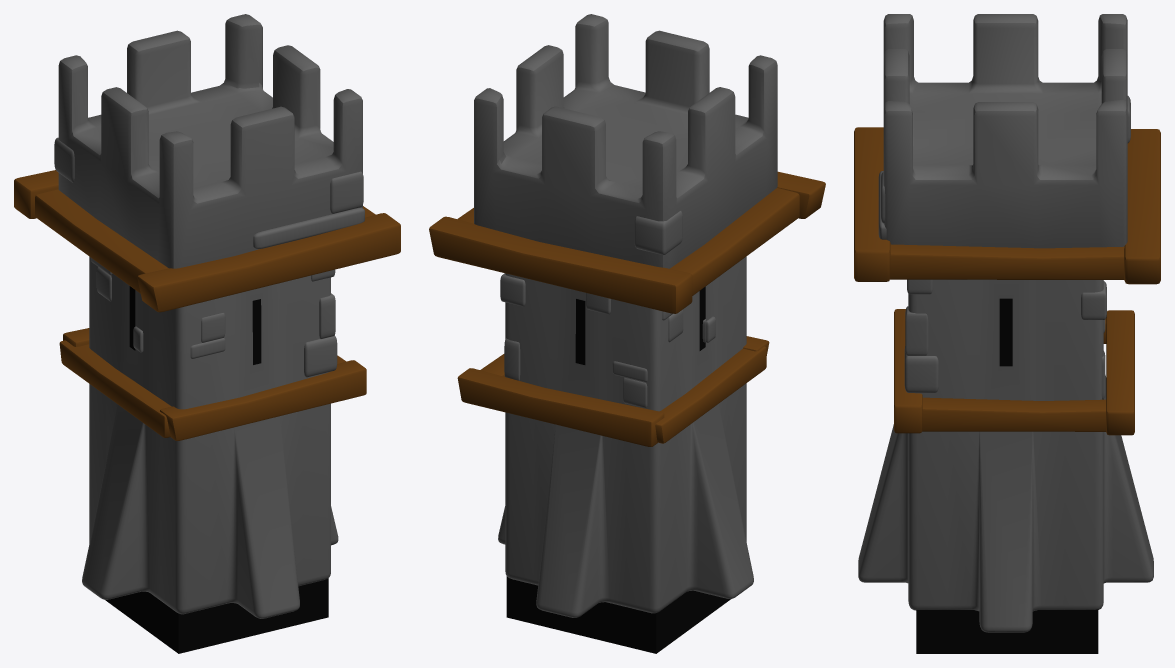
File: ShortSideTower.fbx
3 views of the same model, side by side, from view 1: azimuth 30°, elevation 25°; view 2: azimuth 150°, elevation 25°; view 3: azimuth 270°, elevation 25° (orthographic). The views are drawn at different scales.
Visible parts, largest first — view 1: Box028; view 2: Box028; view 3: Box028.
Part boxes in pixels (box(x1,y1,x2,y2)): Box028: box(14, 14, 400, 653); Box028: box(429, 14, 825, 653); Box028: box(854, 14, 1160, 653).
Size of the model in its own units: 559 by 1104 by 553.
